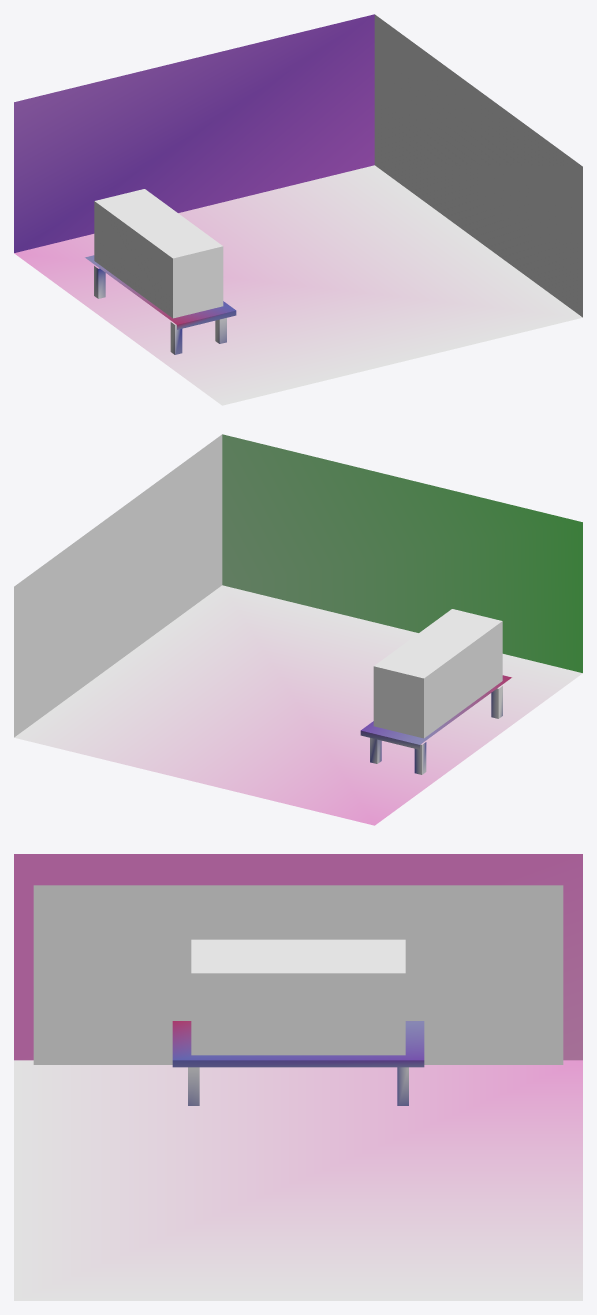
Rendered from room_03.glb.
3 renders of one model, top to bottom at view 1: azimuth 30°, elevation 25°; view 2: azimuth 150°, elevation 25°; view 3: azimuth 270°, elevation 25°, orthographic. The views are drawn at different scales.
Visible parts, largest first — view 1: room, tank; view 2: room, tank; view 3: room, tank.
Boxes of the visible parts, x1=… form: room: x1=14, y1=14, x2=582, y2=405; tank: x1=94, y1=189, x2=223, y2=318; room: x1=14, y1=434, x2=582, y2=825; tank: x1=373, y1=609, x2=502, y2=738; room: x1=14, y1=854, x2=582, y2=1300; tank: x1=191, y1=939, x2=405, y2=1055.
Size of the model in its own units: 1 by 0.4108 by 1.
